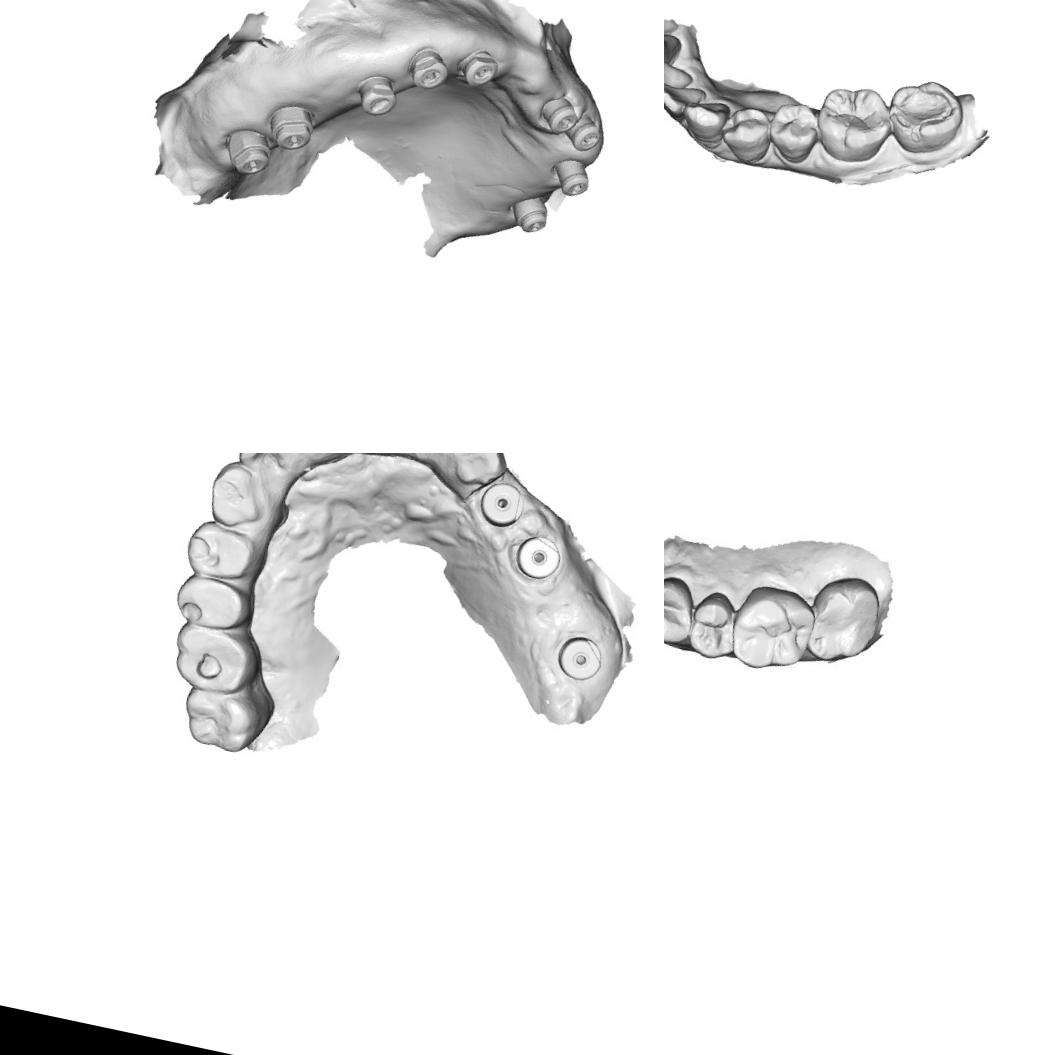canine: (200, 458, 270, 531), (675, 94, 732, 152), (442, 453, 513, 489)
implant: (515, 530, 573, 586), (553, 626, 608, 685), (478, 477, 528, 531), (268, 102, 317, 154), (225, 128, 274, 179), (512, 194, 552, 238), (556, 159, 592, 197)
implant_minus: (458, 44, 503, 88), (410, 46, 450, 95), (356, 74, 398, 118), (541, 92, 582, 137), (568, 116, 602, 153)
incisor: (664, 78, 708, 126), (664, 51, 696, 97), (233, 453, 294, 474), (664, 25, 683, 68)
molar: (798, 566, 890, 674), (724, 579, 821, 680), (173, 674, 270, 764), (808, 77, 898, 170), (881, 73, 970, 162), (168, 621, 258, 698)
premolar: (168, 568, 254, 634), (182, 518, 260, 586), (679, 585, 746, 664), (762, 96, 824, 167), (715, 102, 777, 168), (664, 569, 699, 650)
